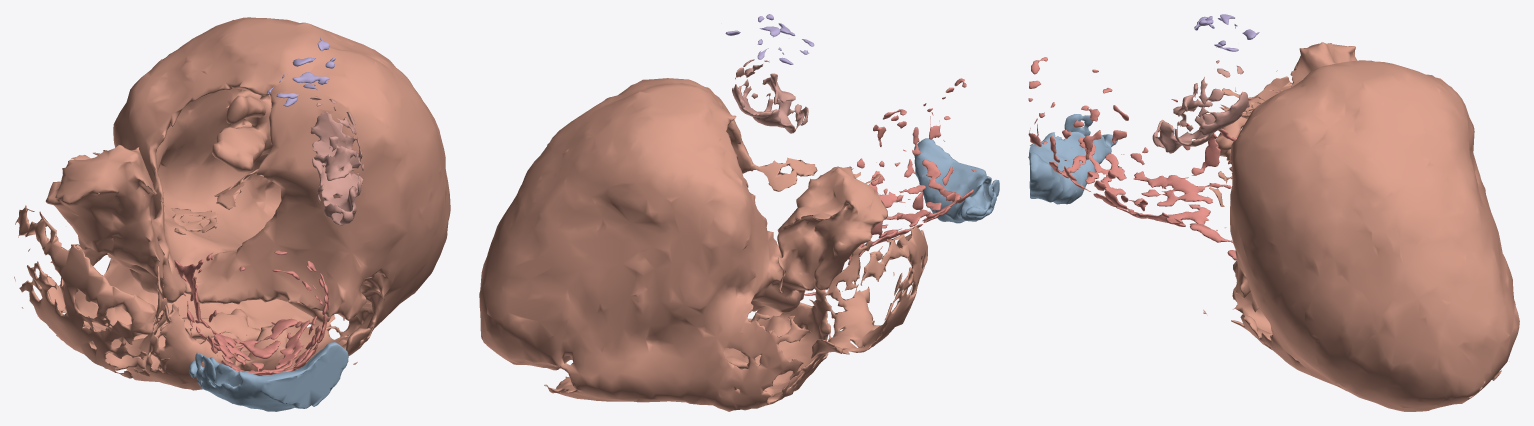
The model's file is heart.glb.
3 renders of one model, left to right at view 1: azimuth 30°, elevation 25°; view 2: azimuth 150°, elevation 25°; view 3: azimuth 270°, elevation 25°, orthographic. The views are drawn at different scales.
Visible parts, largest first — view 1: Heart, Inferior vena cava, Aorta, Left atrial appendage, Pulmonary artery; view 2: Heart, Inferior vena cava, Aorta, Left atrial appendage, Pulmonary artery; view 3: Heart, Aorta, Inferior vena cava, Left atrial appendage, Pulmonary artery.
Part boxes in pixels (box(x1,y1,x2,y2)): Heart: box(14, 17, 450, 390); Inferior vena cava: box(189, 342, 348, 411); Aorta: box(174, 250, 329, 375); Left atrial appendage: box(310, 96, 363, 225); Pulmonary artery: box(267, 38, 335, 106); Heart: box(479, 78, 927, 411); Inferior vena cava: box(914, 138, 999, 223); Aorta: box(804, 78, 977, 295); Left atrial appendage: box(732, 59, 808, 133); Pulmonary artery: box(725, 14, 814, 64); Heart: box(1203, 42, 1519, 411); Aorta: box(1028, 57, 1236, 260); Inferior vena cava: box(1028, 114, 1117, 204); Left atrial appendage: box(1152, 60, 1249, 153); Pulmonary artery: box(1194, 14, 1259, 51).
Bounding box in the file's own units: 134 × 114 × 143.
